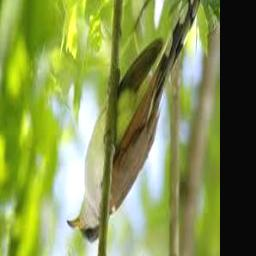Cuckoo: (66, 0, 202, 243)
